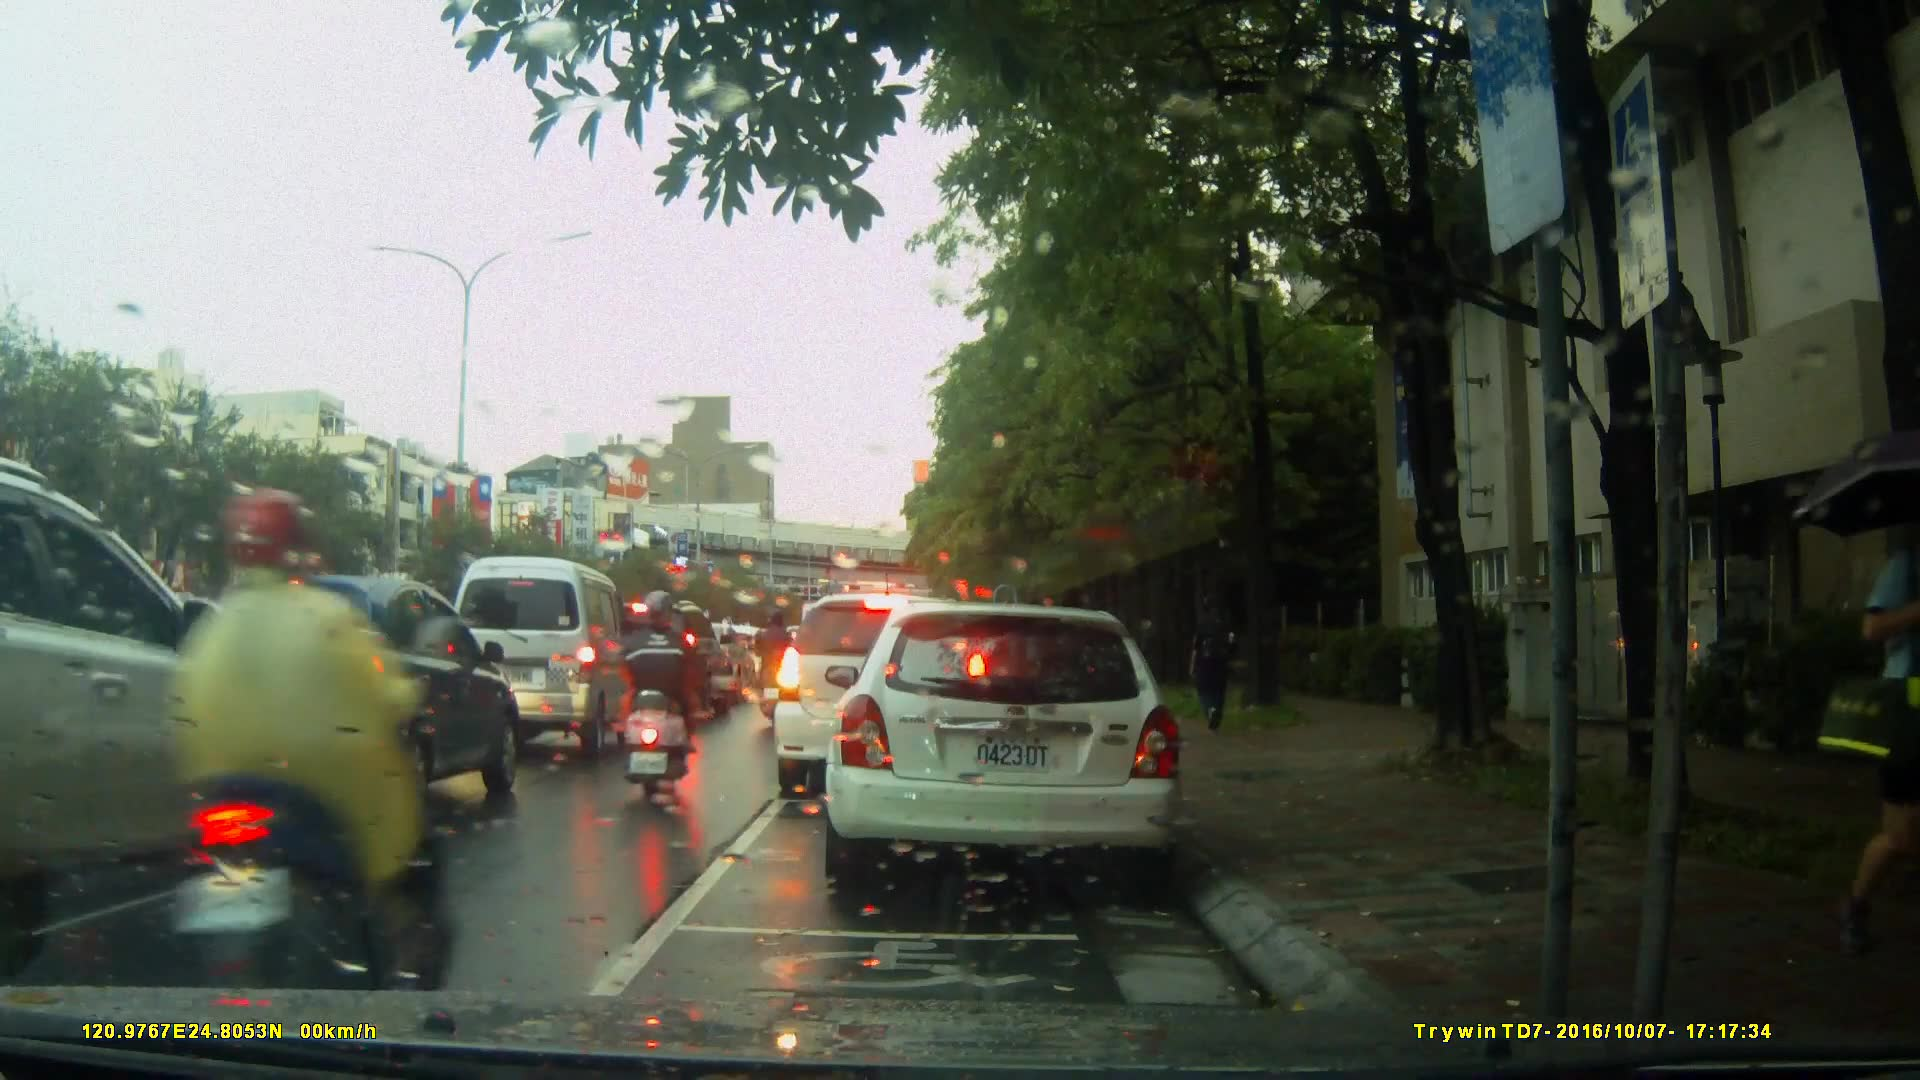pedestrian: (1845, 459, 1920, 961), (1177, 589, 1250, 741)
rider: (165, 485, 450, 1052), (619, 582, 706, 800), (755, 610, 801, 720)
vehicle: (1, 451, 326, 990), (815, 593, 1204, 909), (169, 573, 532, 835), (770, 590, 994, 802), (443, 553, 644, 763), (583, 602, 735, 724)
